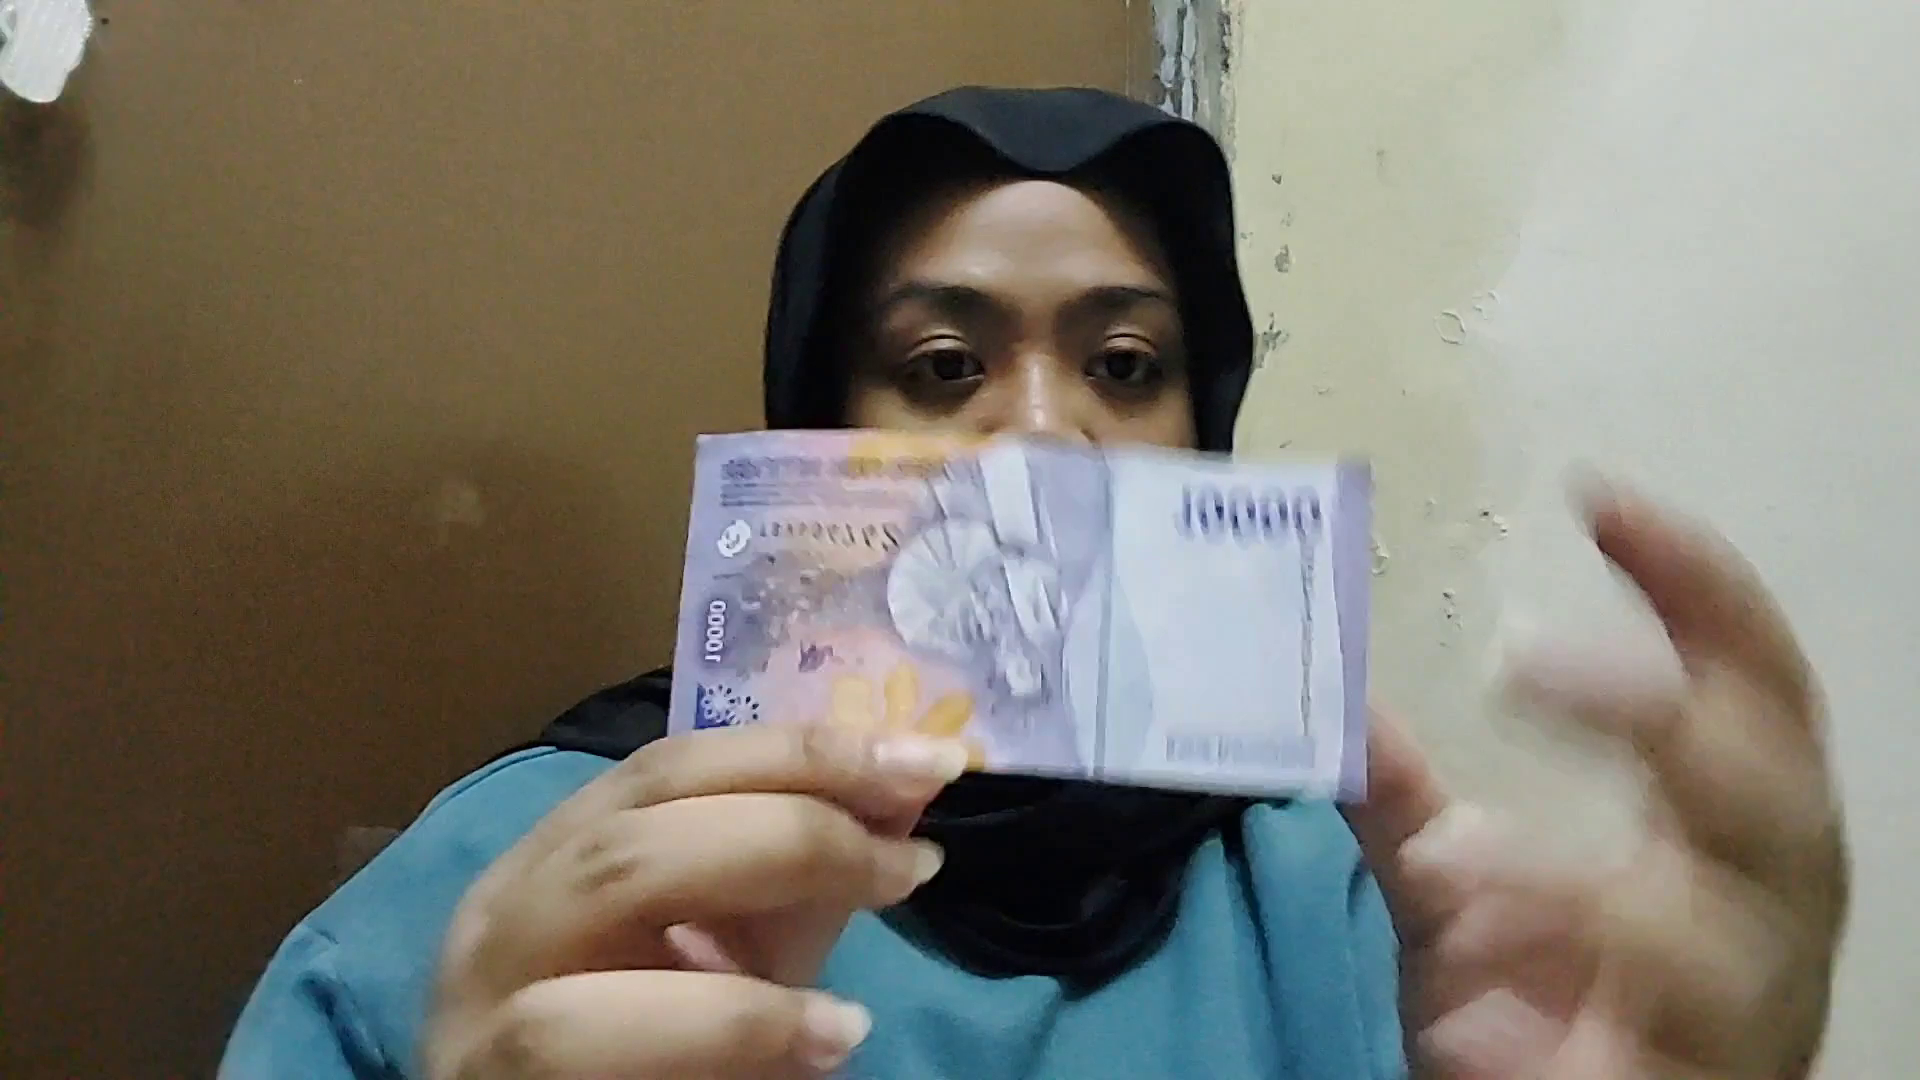10k: (692, 427, 1364, 796)
